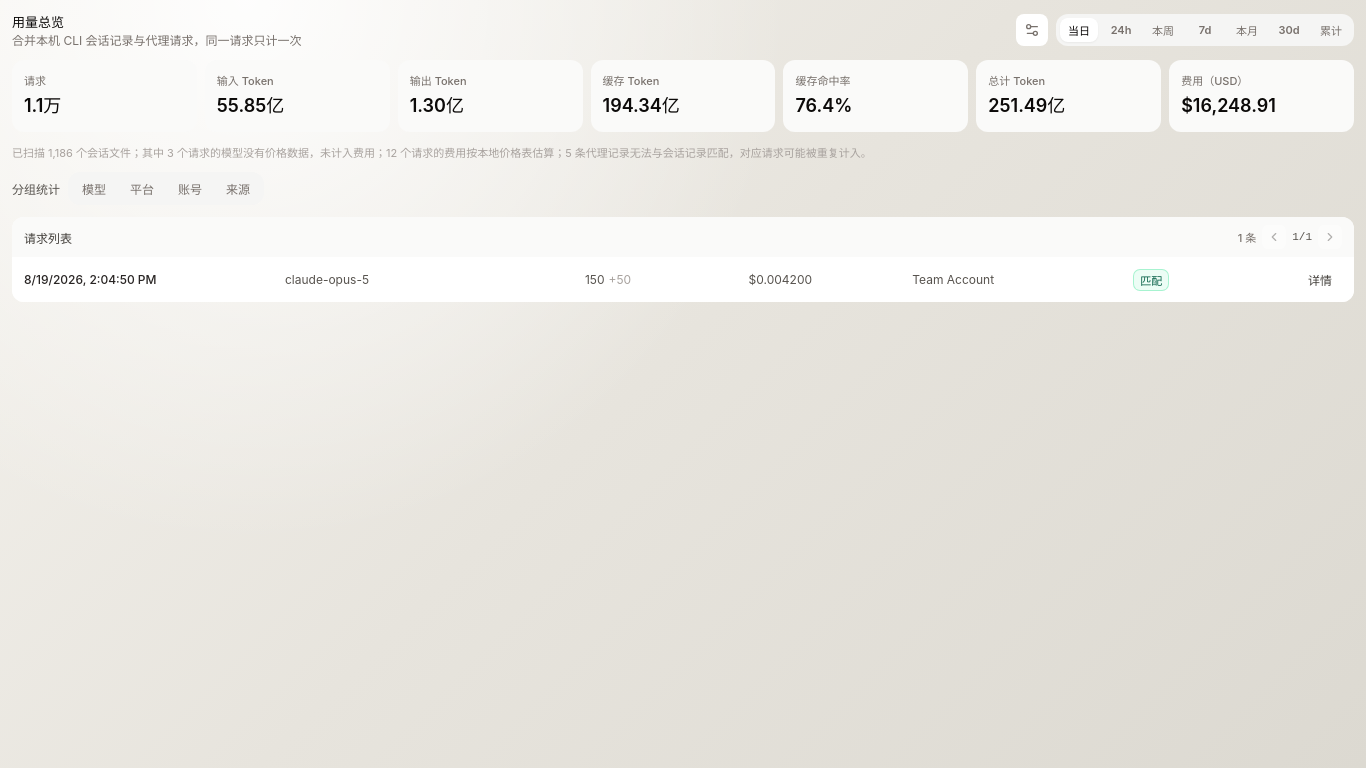
Test: UsageOverviewPanel › keeps the chart on the same window as the summary cards
Expected: the text "1.1万" is shown, [24,92,61,120]
Click the button "账号". click: (190, 188)
box: [168,176,212,201]
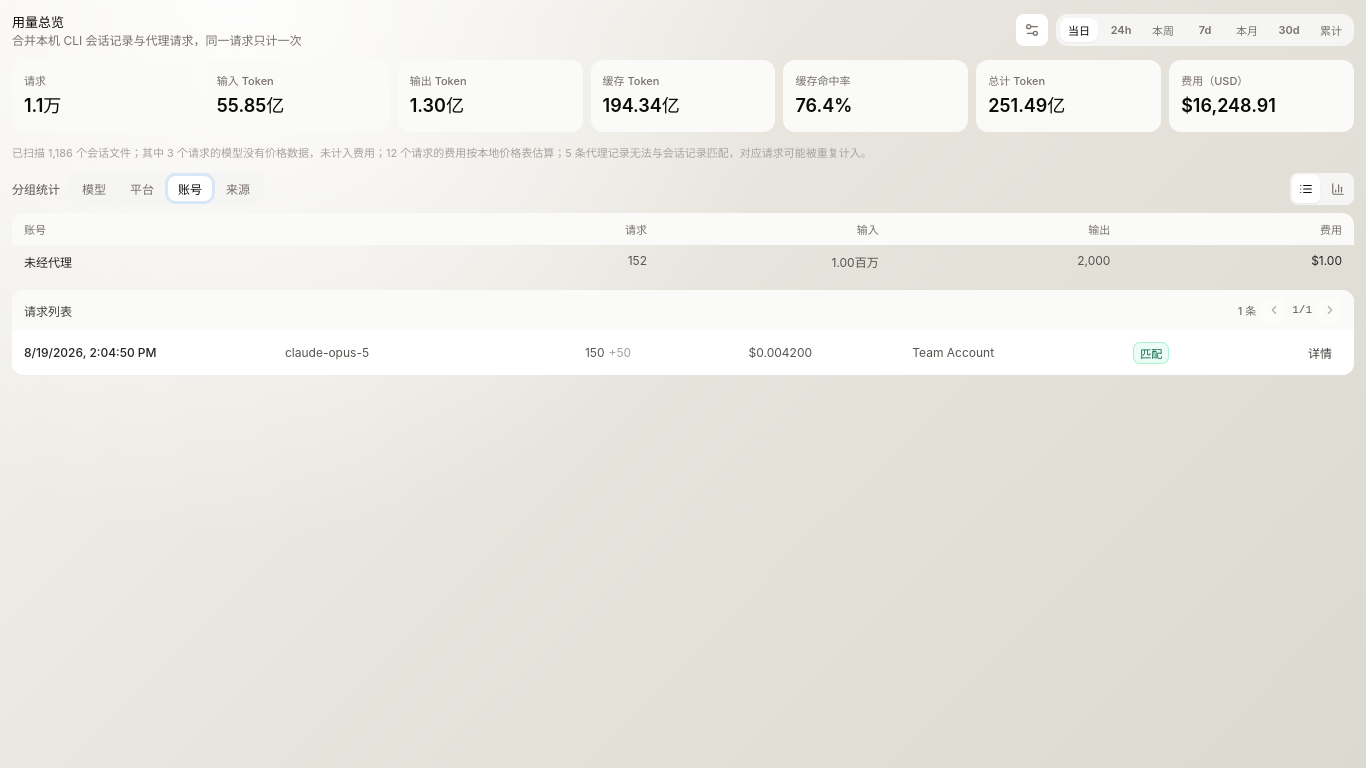
Click the button named "图表". click: (1338, 188)
box: [1324,174,1352,202]
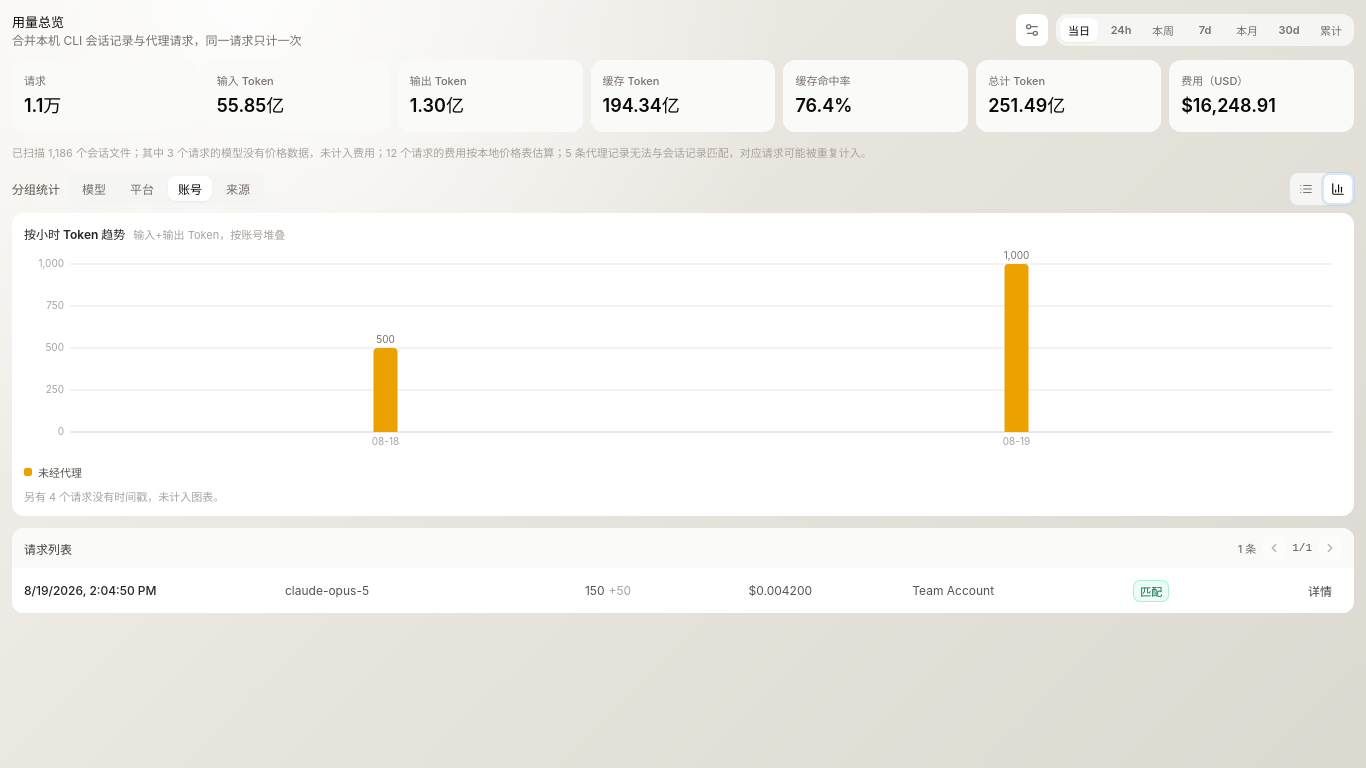
Now the text "按小时 Token 趋势" is shown, box [24,225,125,242]
Now the text "输入+输出 Token，按账号堆叠" is shown, box [133,226,285,242]
Now the text "另有 4 个请求没有时间戳，未计入图表。" is shown, box [24,490,224,504]
